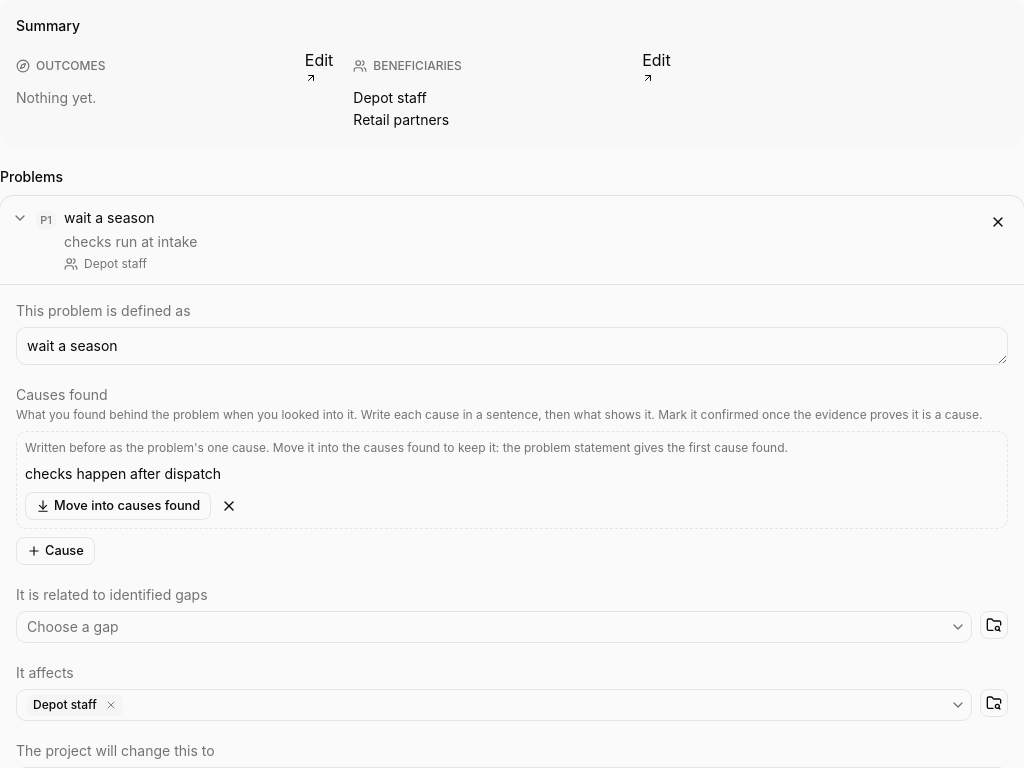
Test case: the aim step holds every problem the project answers › names the groups on the card without rewriting any part
Step 1. Click the dropdown named "Affected groups" → [75, 705], box [16,689,972,721]
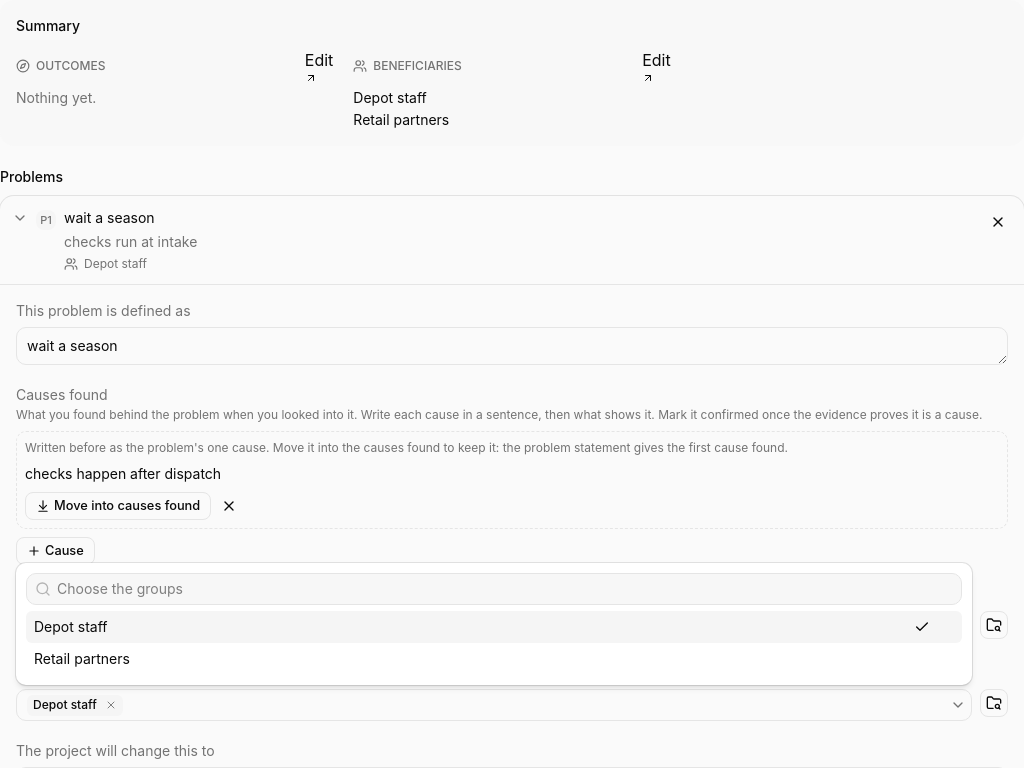
Step 2. Click the option "Retail partners" → [82, 658], box [34,650,130,667]
(page scrolled)
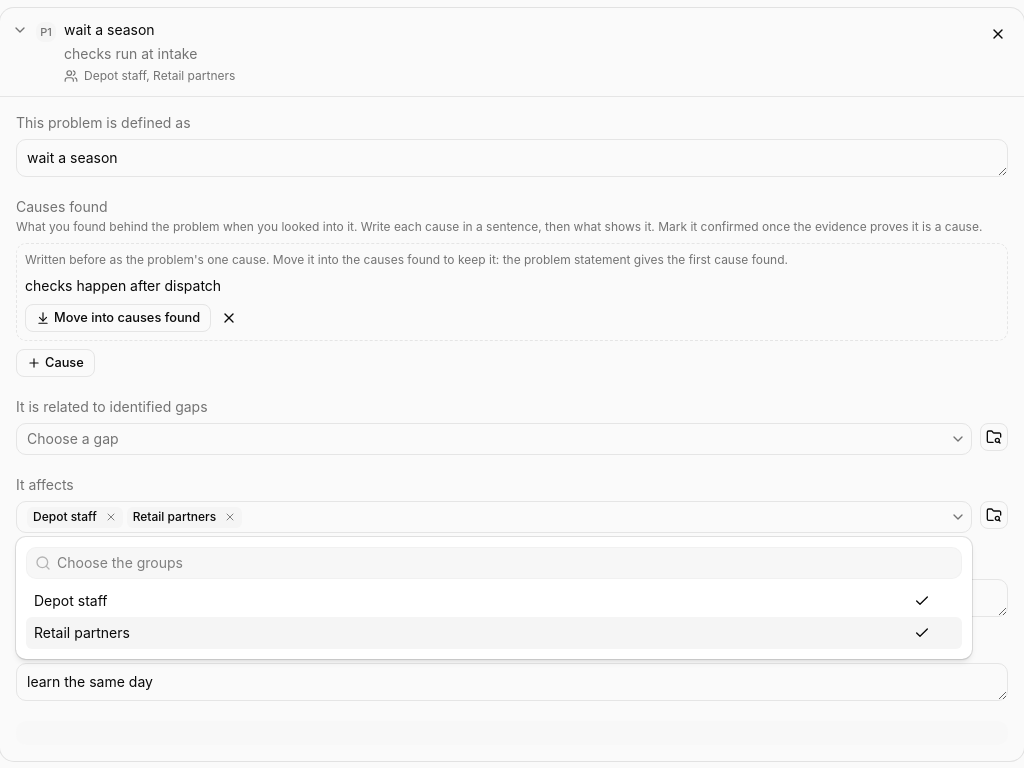
Expected: the element that starts with "wait a season" shows "Depot staff, Retail partners", [12,20,976,84]
